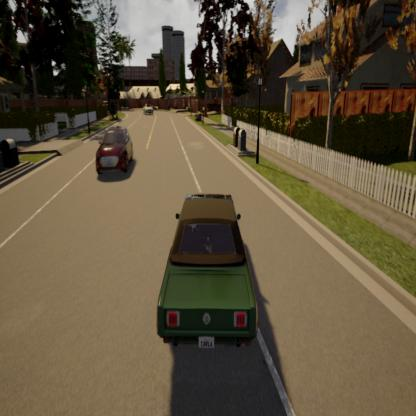Cars: (152, 186, 268, 361), (91, 121, 137, 181), (142, 103, 155, 118)
